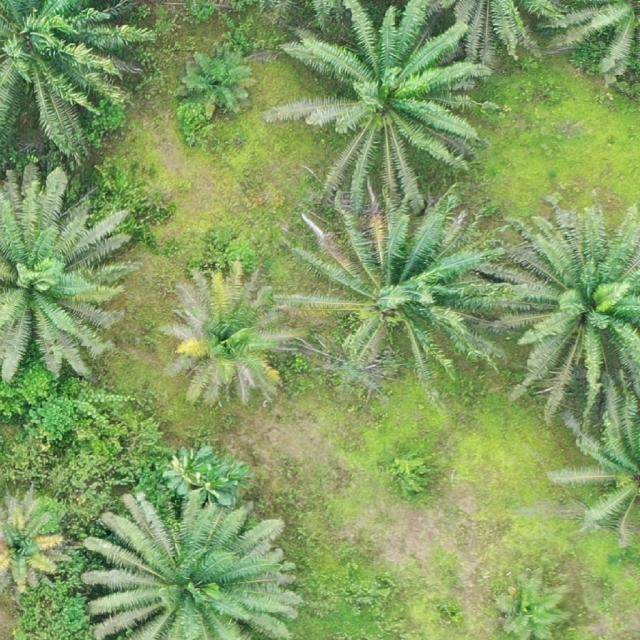Kelapa_Sawit: (290, 192, 510, 390), (292, 11, 480, 200), (486, 215, 640, 413), (1, 158, 129, 392), (91, 496, 299, 640), (170, 272, 294, 404), (0, 0, 114, 141), (561, 382, 640, 542), (535, 0, 640, 81), (2, 482, 68, 600), (172, 51, 264, 121), (492, 571, 572, 640)
